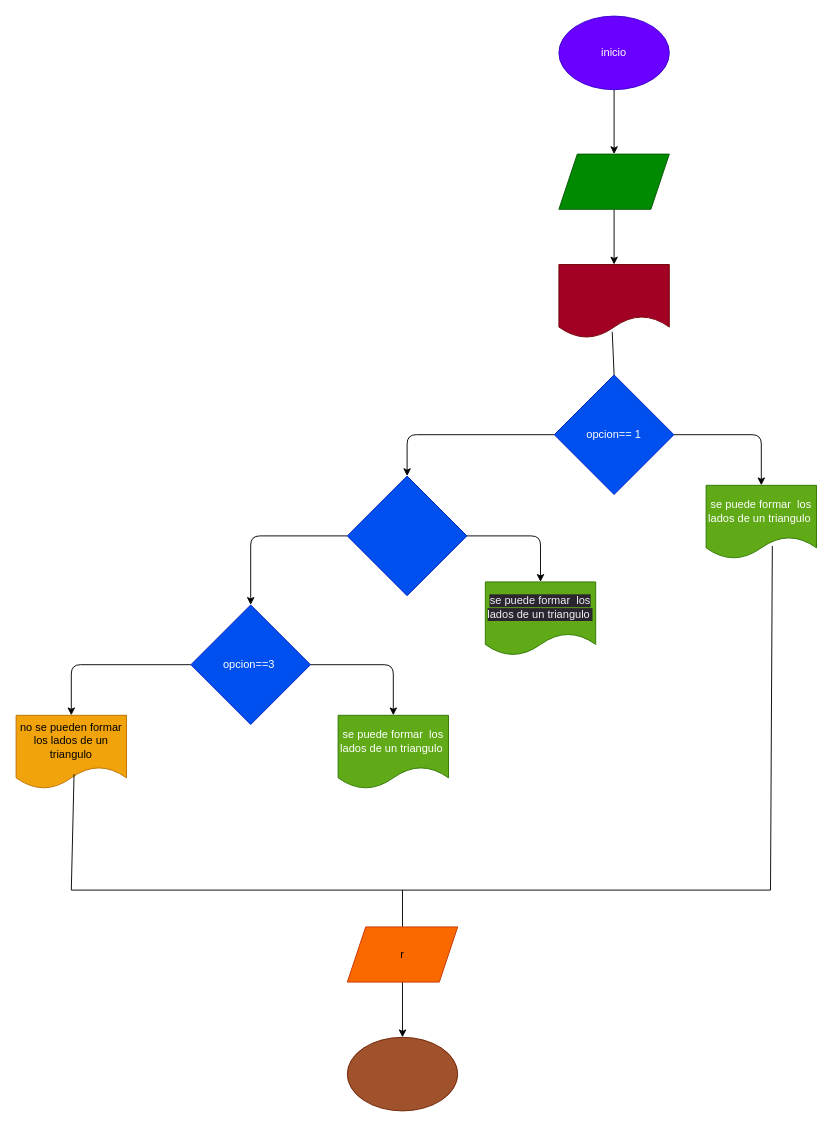
The diagram is 833 pixels wide and 1127 high, and some of its shapes have lost their labels. The shapes that lost their labels are listed below. From the top down, each one's centre as x and y in pixels, then its label:
At point (613, 181): "a,b,c".
At point (613, 301): "1-- a + b > c 2-- a + c > b 3-- c + b > a".
At point (406, 535): "opcion== 2".
At point (402, 1073): "fin".
